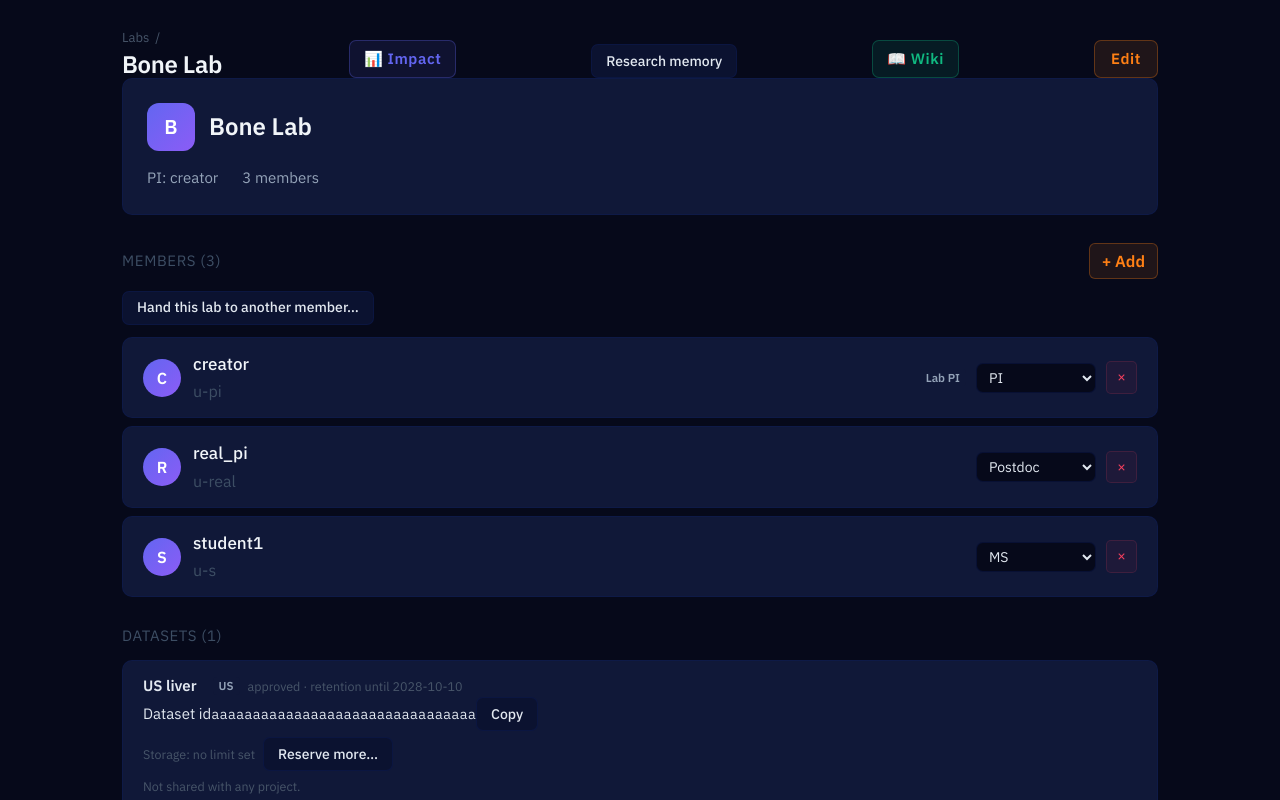
LabDetail — a first limit says what it can and cannot promise › setting a first limit explains the empty-bucket rule and how a stopped delivery resumes
The image size is (1280, 800).
Click the button "Reserve more…".
click(328, 754)  # box 263,737 -> 393,771
(page scrolled)
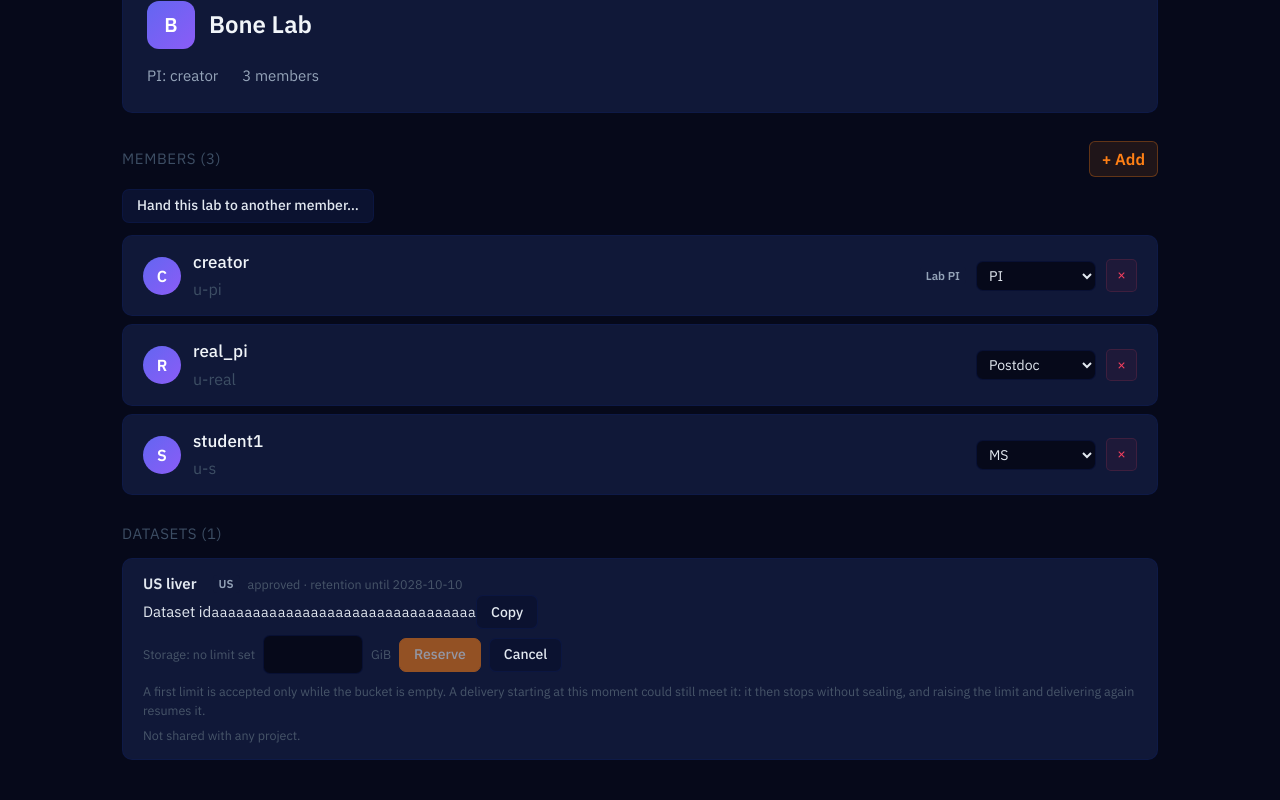
Expected: the text "delivering again resumes it" is shown, 143,683 -> 1134,718
